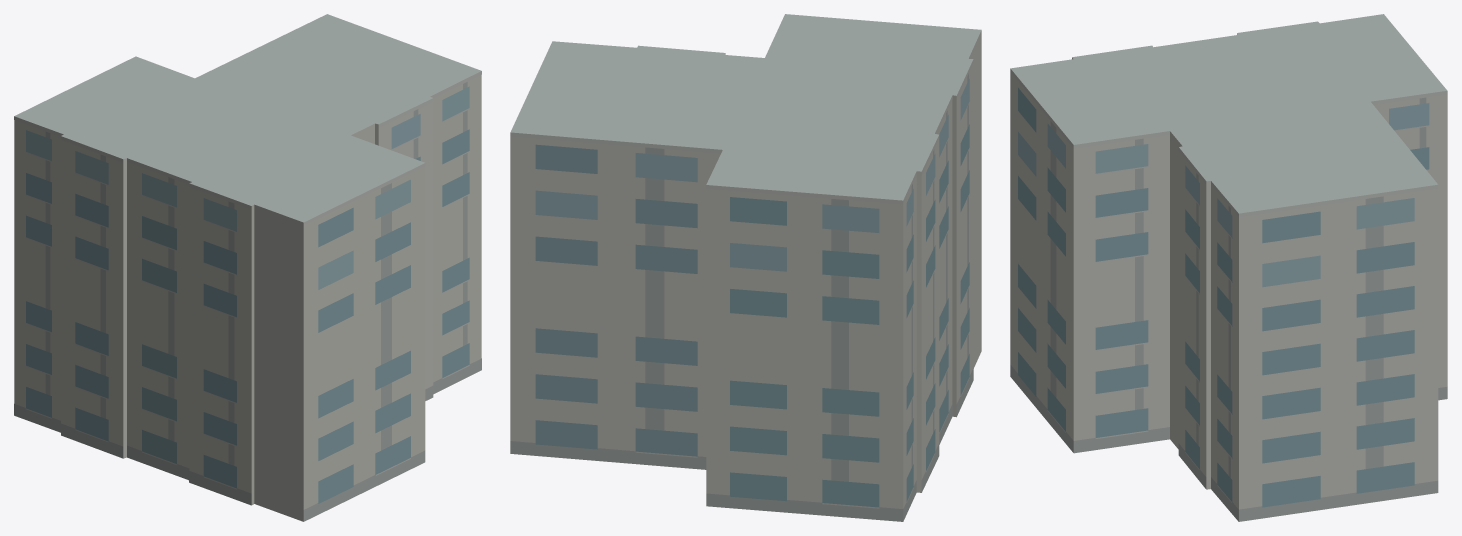
The model's file is survey-upis-32696779.glb.
3 views of the same model, side by side, from view 1: azimuth 30°, elevation 25°; view 2: azimuth 150°, elevation 25°; view 3: azimuth 270°, elevation 25° (orthographic). The views are drawn at different scales.
Parts seen in each view (by area): view 1: survey-upis-32696779.tmp; view 2: survey-upis-32696779.tmp; view 3: survey-upis-32696779.tmp.
Boxes of the visible parts, x1,y1,x2,y2 form: survey-upis-32696779.tmp: (14, 14, 481, 521); survey-upis-32696779.tmp: (510, 14, 981, 521); survey-upis-32696779.tmp: (1010, 14, 1447, 521).
Size of the model in its own units: 27.5 by 19.8 by 25.45.
